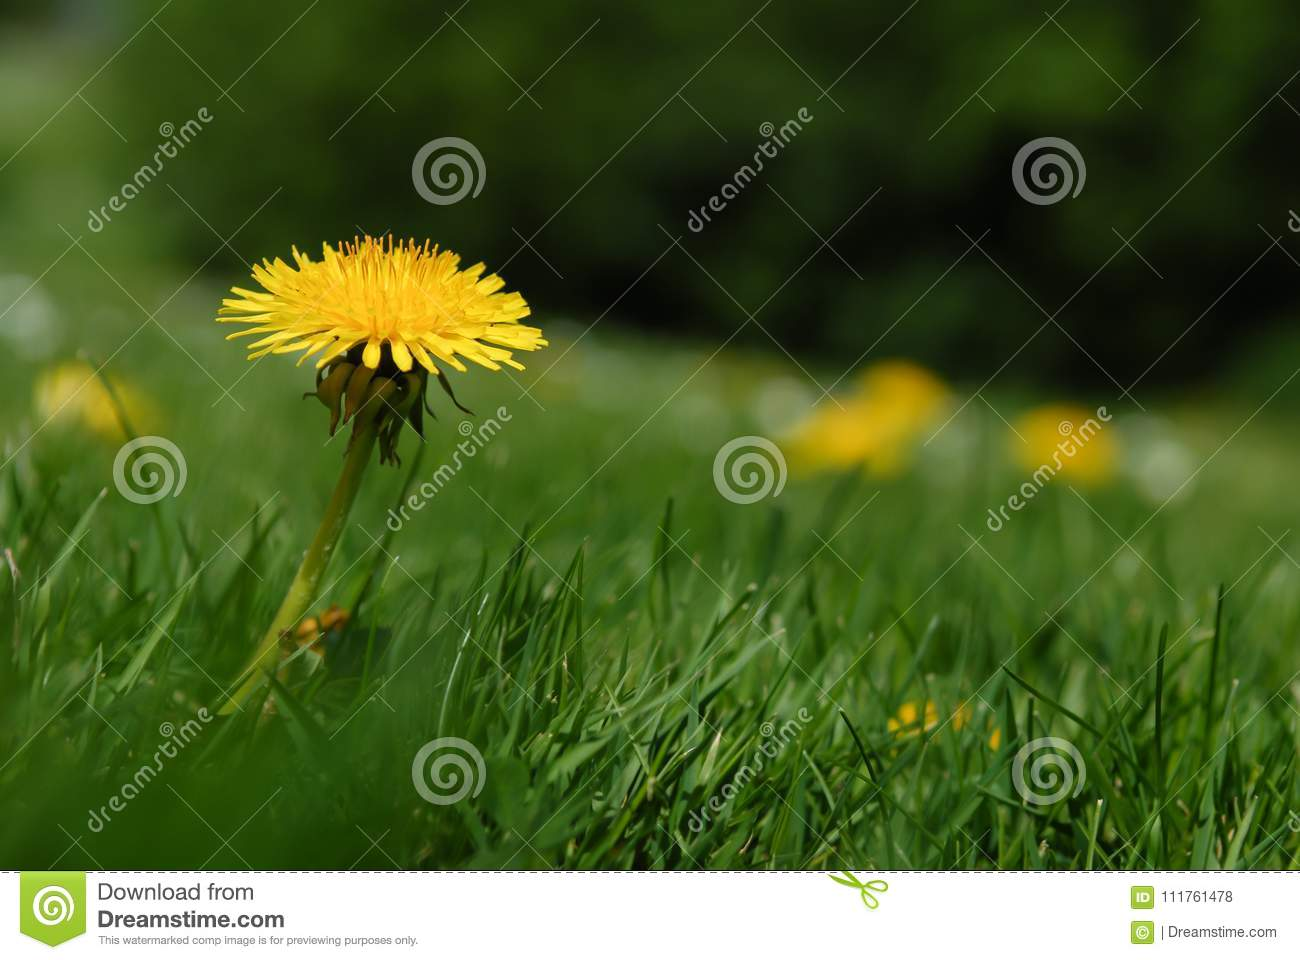dandelion: (215, 236, 525, 369)
